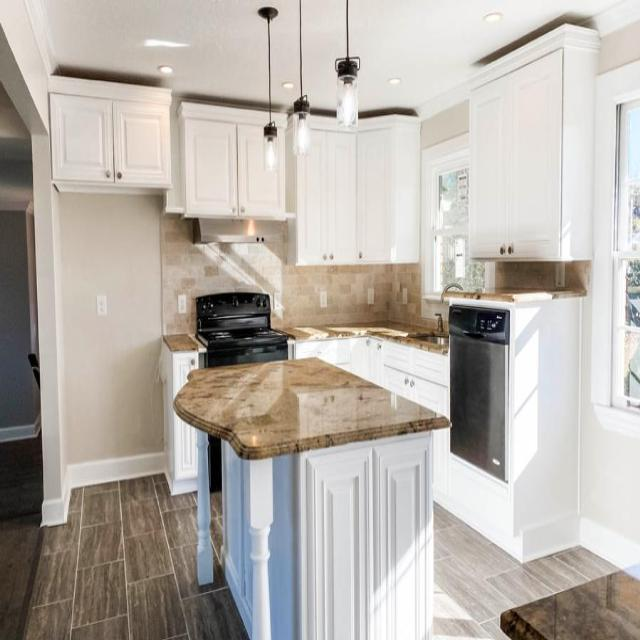dishwasher: (449, 304, 509, 480)
